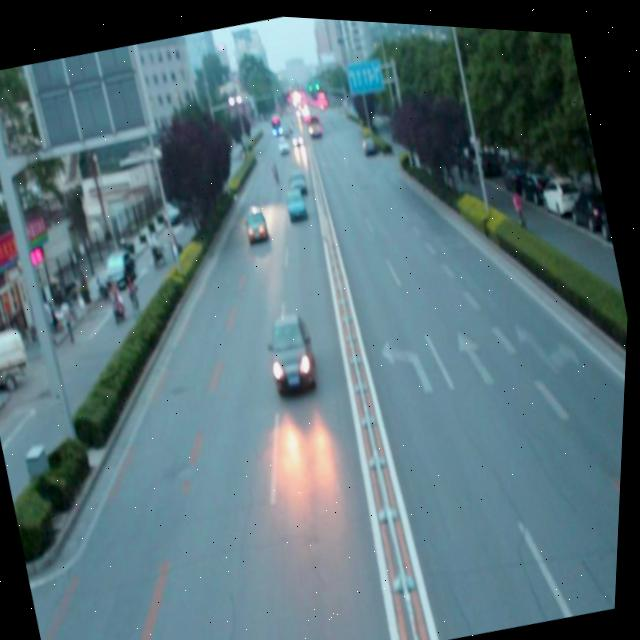car: (259, 303, 325, 393), (240, 197, 274, 243), (283, 183, 312, 222)
